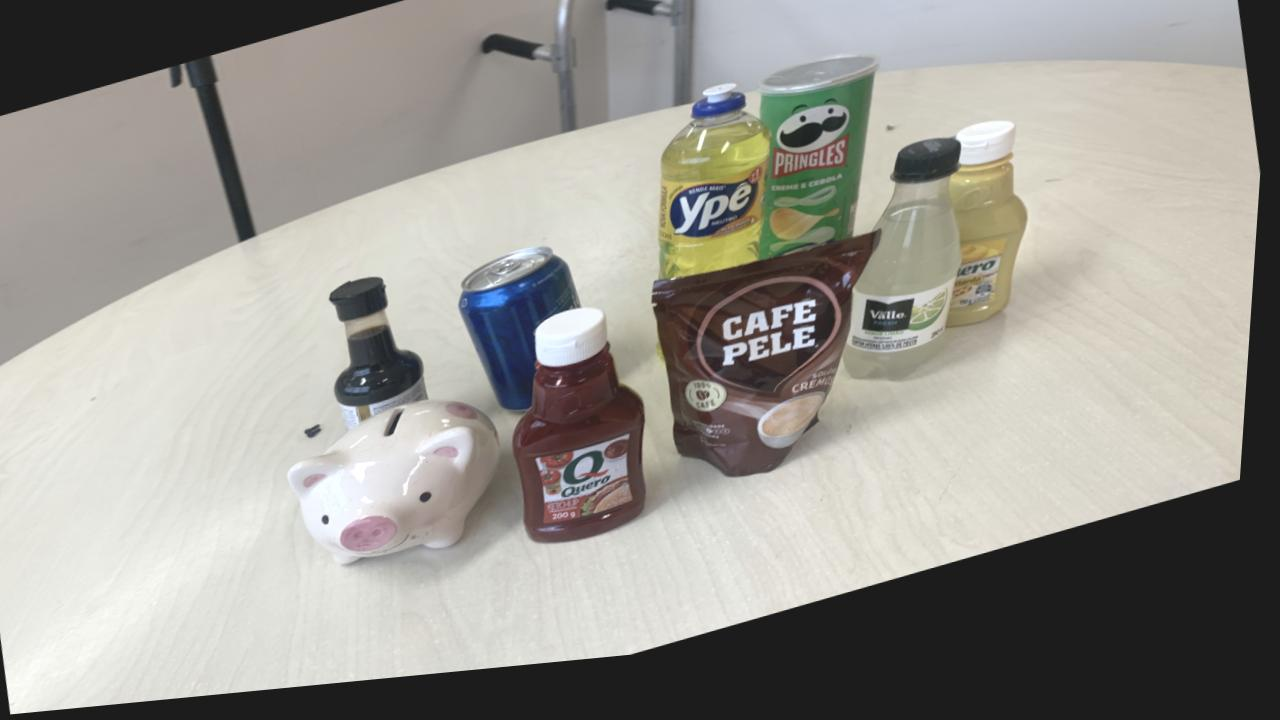Coffee-Pantry_Items: (656, 249, 886, 492)
Detergent-Cleanup_Items: (661, 98, 774, 292)
English_Sauce-Pantry_Items: (334, 284, 434, 436)
Ketchup-Pantry_Items: (518, 359, 655, 555)
Mustard-Pantry_Items: (952, 140, 1032, 346)
Pig_Safe-Miscellaneous: (295, 409, 507, 572)
Pringles-Snacks: (761, 70, 882, 275)
Soda-Drinks: (849, 156, 966, 399)
Tonic-Drinks: (464, 257, 586, 422)
